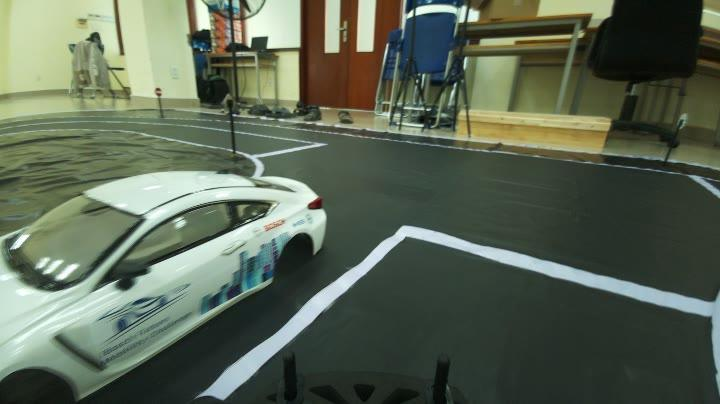car: (5, 153, 330, 383)
